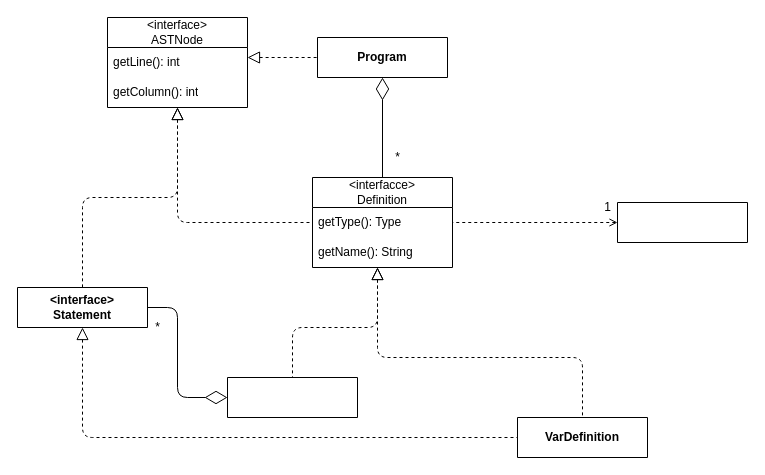
The diagram is 765 pixels wide and 475 high, and some of its shapes have lost their labels. The centre of each missing label's shape, as x and y in pixels:
"<interface> Type" belongs at pixel 682 222.
"FuncDefinition" belongs at pixel 292 397.
